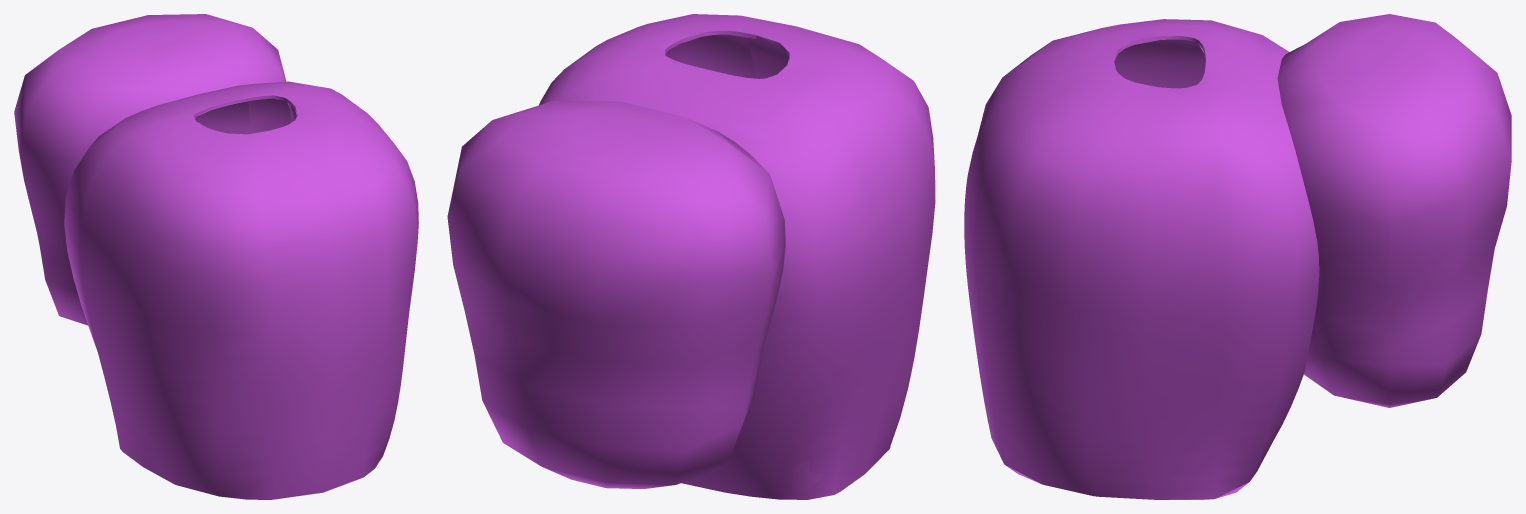
File: chest.dae
The picture shows the model from 3 angles, left to right: view 1: azimuth 30°, elevation 25°; view 2: azimuth 150°, elevation 25°; view 3: azimuth 270°, elevation 25°; orthographic projection. The views are drawn at different scales.
Visible parts, largest first — view 1: bb_chest; view 2: bb_chest; view 3: bb_chest.
Boxes of the visible parts, box(x1,y1,x2,y2) form: bb_chest: box(14, 14, 418, 499); bb_chest: box(447, 14, 935, 499); bb_chest: box(964, 14, 1511, 499).
Size of what is drawn, in the model's own units: 196 by 276 by 215.
